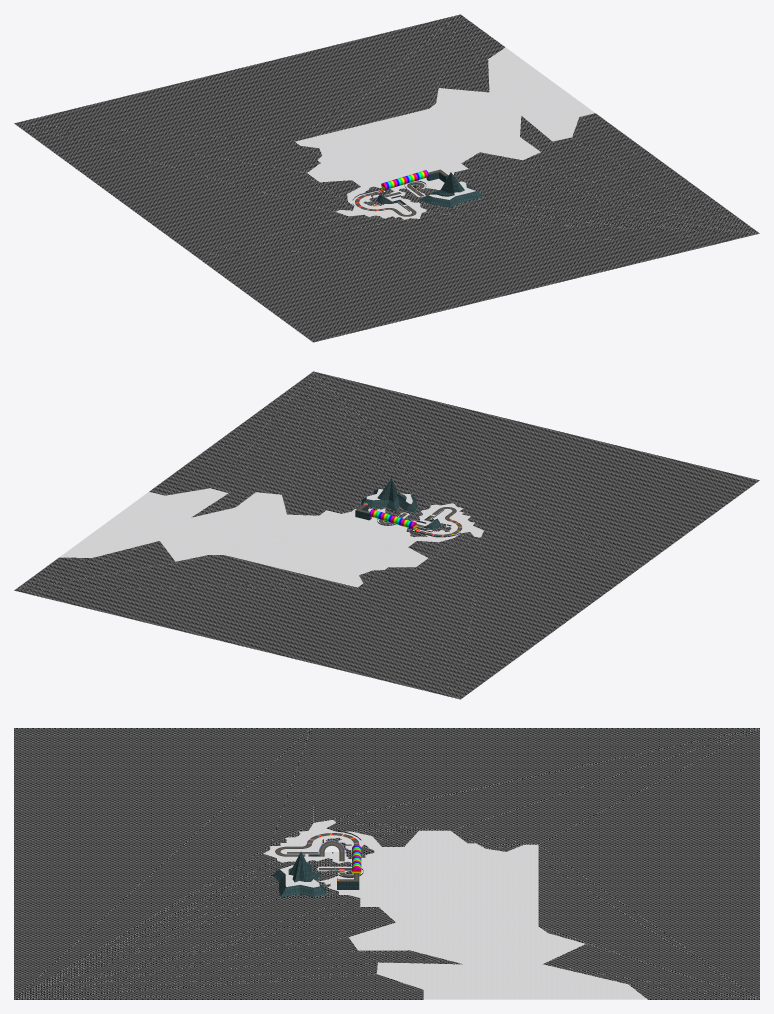
3 renders of one model, top to bottom at view 1: azimuth 30°, elevation 25°; view 2: azimuth 150°, elevation 25°; view 3: azimuth 270°, elevation 25°, orthographic. The views are drawn at different scales.
Parts seen in each view (by area): view 1: uuu_Main-Material2, uuu_Main-snow, uuu_Main-wall; view 2: uuu_Main-Material2, uuu_Main-snow, uuu_Main-wall; view 3: uuu_Main-Material2, uuu_Main-snow, uuu_Main-wall, uuu_Main-road.
Part boxes in pixels (bbox=[...]): uuu_Main-Material2: bbox=[14, 14, 759, 342]; uuu_Main-snow: bbox=[295, 47, 595, 219]; uuu_Main-wall: bbox=[302, 146, 527, 218]; uuu_Main-Material2: bbox=[14, 371, 759, 699]; uuu_Main-snow: bbox=[59, 488, 483, 587]; uuu_Main-wall: bbox=[71, 479, 476, 570]; uuu_Main-Material2: bbox=[14, 728, 759, 999]; uuu_Main-snow: bbox=[263, 820, 647, 999]; uuu_Main-wall: bbox=[14, 728, 759, 999]; uuu_Main-road: bbox=[275, 833, 359, 881].
Size of the model in its own units: 353042 by 19757 by 409708.
Materials: 18 (18 with a texture image).
